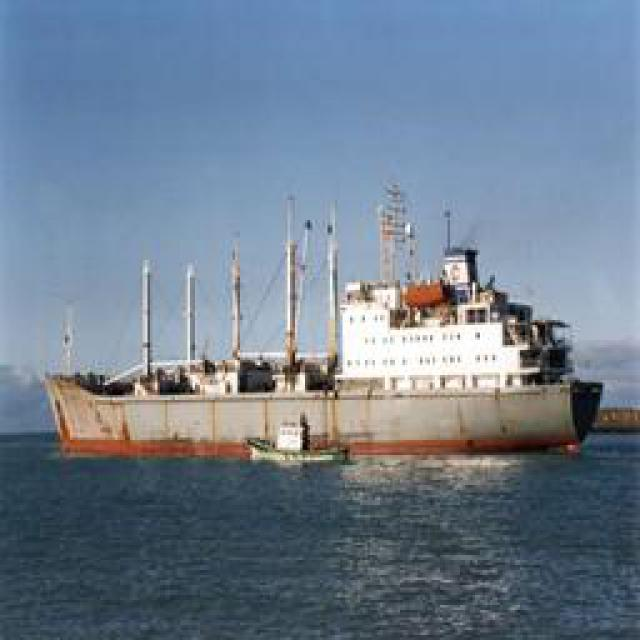Ship: (45, 179, 600, 469)
